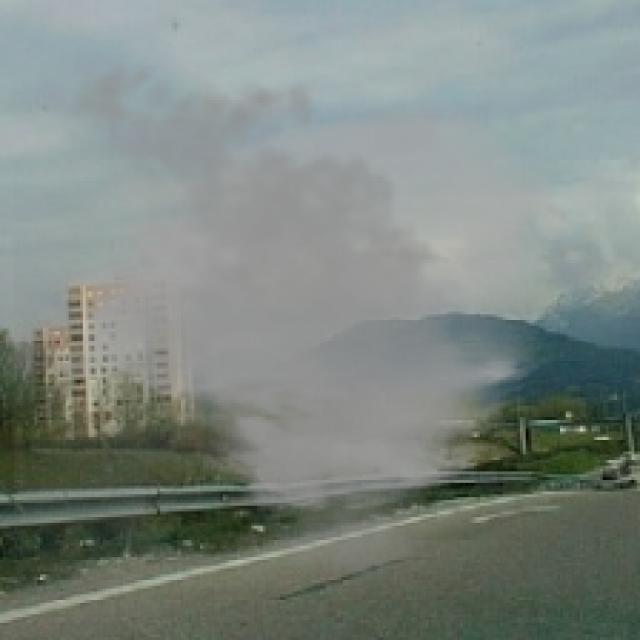Smoke: (14, 46, 572, 588)
